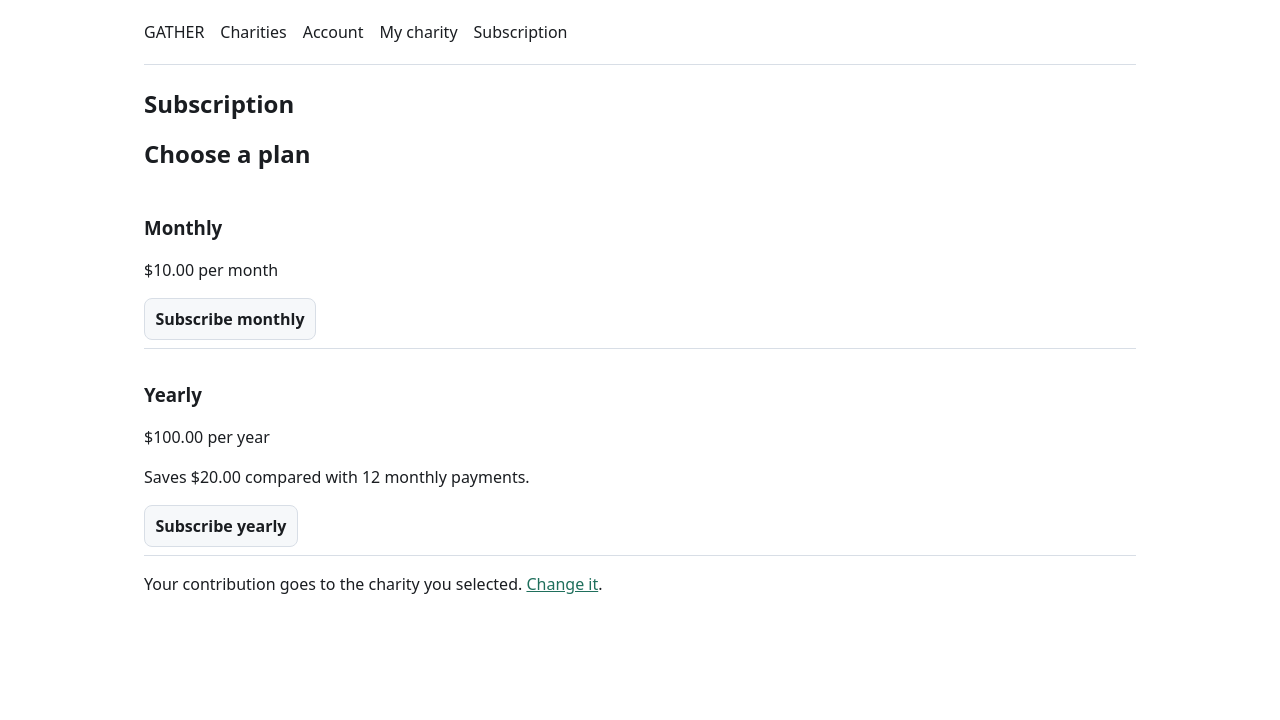
starting Checkout › the server refuses with {"status":409,"code":"already_subscribed"}: the user is told what to do, and is NOT sent to Stripe
This screenshot has width=1280, height=720.
Expected: the list named "Plans" is shown, [144,189,1136,556]
Click the button "Subscribe monthly": (230, 319) [144,298,316,340]
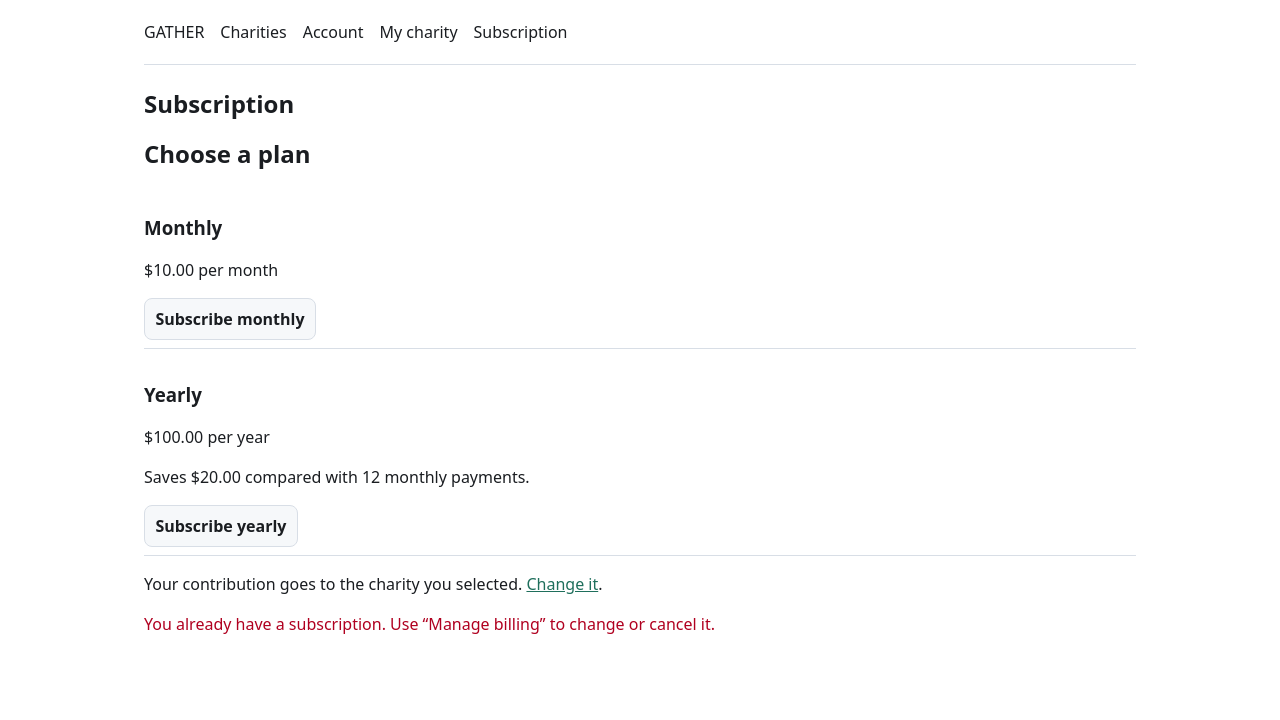
Expected: the message shows "already have a subscription", [144,614,715,636]
